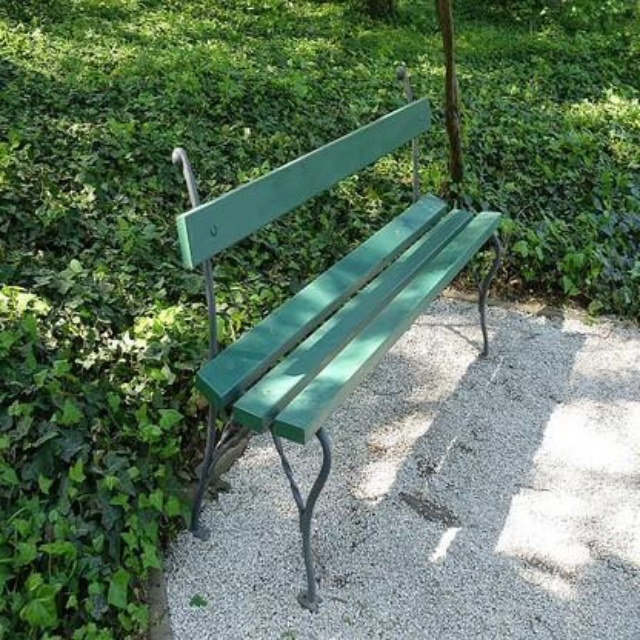obstacle: (135, 85, 542, 574)
